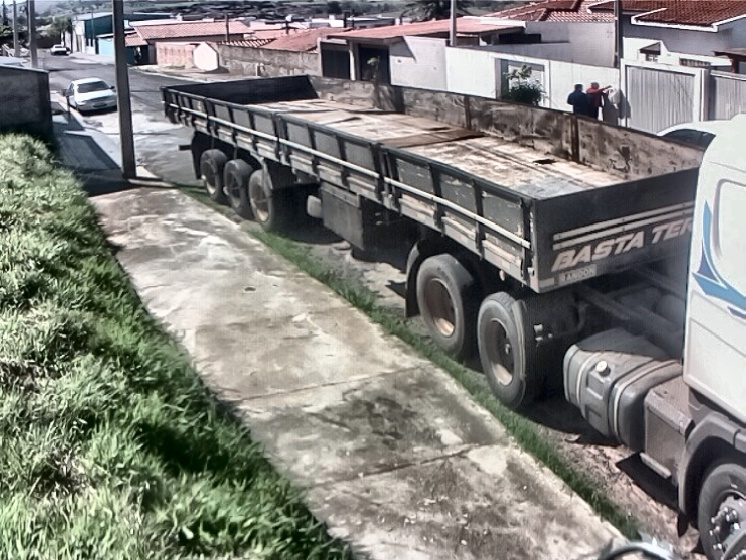person: (583, 78, 617, 122), (565, 83, 589, 119)
